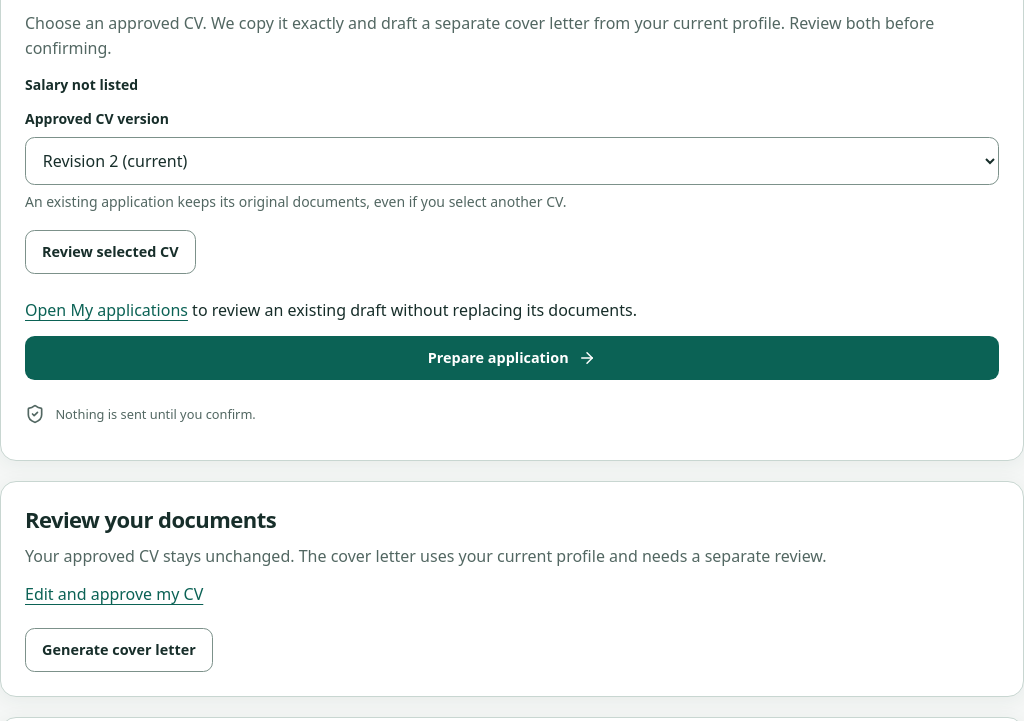
Test: retains uncertainty guidance without automatically retrying preparation
(page scrolled)
Expected: the dropdown labelled "Approved CV version" is shown, x1=25 y1=137 x2=999 y2=185
Click the button "Prepare application": (512, 358) x1=25 y1=336 x2=999 y2=380
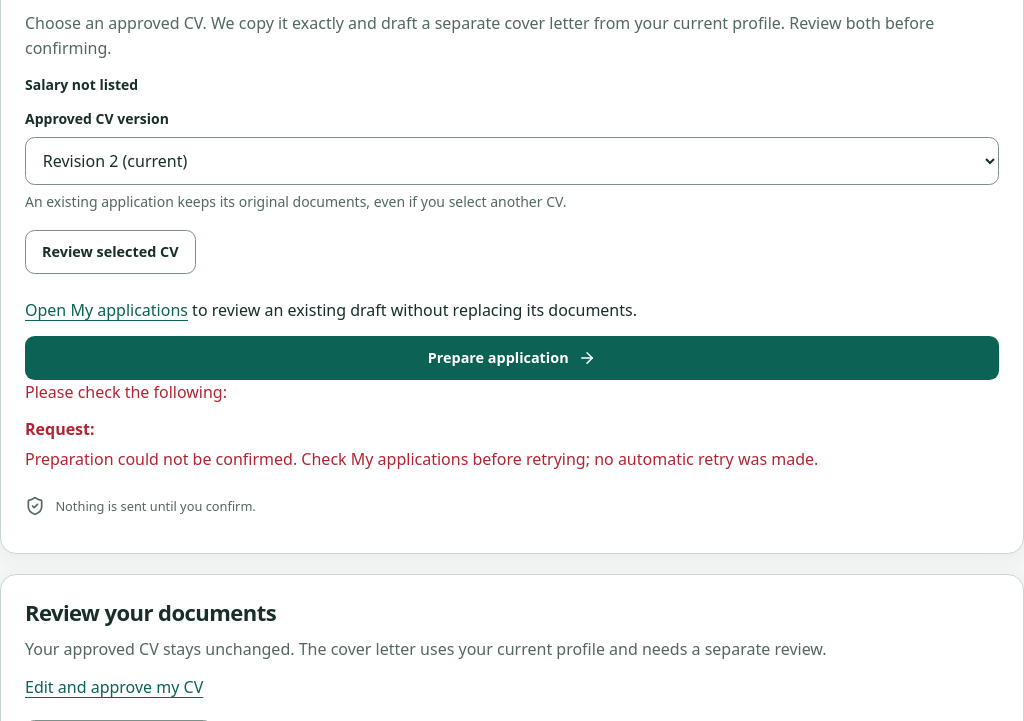
Now the message shows "Check My applications", box x1=25 y1=448 x2=818 y2=470
